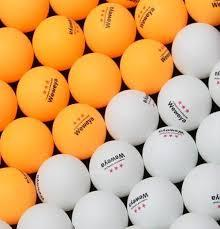orange: (32, 14, 87, 71), (1, 116, 56, 173), (68, 51, 122, 106), (16, 66, 70, 120), (119, 38, 173, 91), (54, 103, 106, 158), (83, 2, 136, 52)
white: (101, 87, 163, 144), (143, 126, 201, 184), (89, 141, 145, 197), (126, 178, 187, 229), (169, 22, 220, 78)
